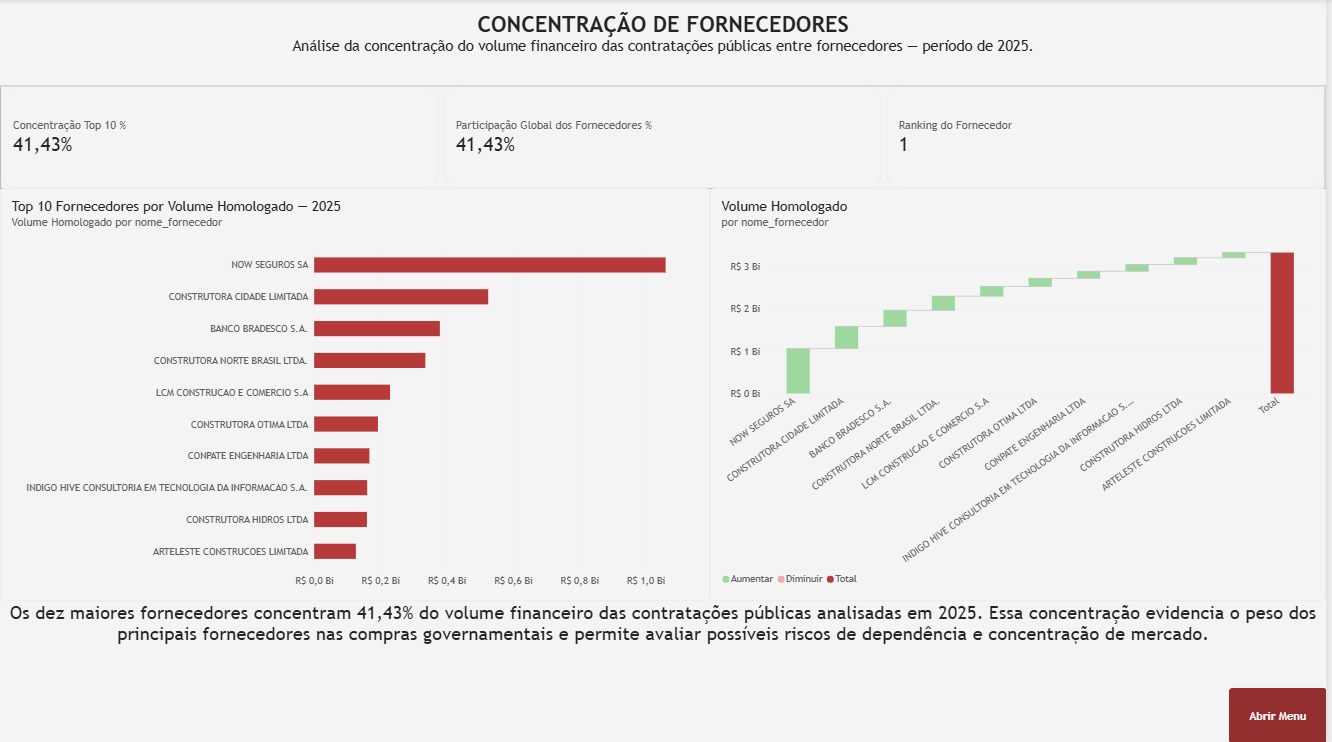

This screenshot's page, from the dashboard's own definition file:
{"tool":"powerbi","page":{"name":"P2 Fornecedores","canvas":[1920,1080],"ordinal":2},"visuals":[{"type":"cardVisual","fields":{"Data":["Medidas.Concentração Top 10 %","Medidas.Participação Global dos Fornecedores %","Medidas.Ranking do Fornecedor"]},"box":[0,124,1920,150],"z":0},{"type":"textbox","box":[0,18,1920,132],"z":1000},{"type":"clusteredBarChart","title":"Top 10 Fornecedores por Volume Homologado — 2025","fields":{"Category":["dim_fornecedor.nome_fornecedor"],"Y":["Medidas.Volume Homologado"]},"box":[0,274,1028,598],"z":2000},{"type":"textbox","box":[0,872,1920,106],"z":3000},{"type":"waterfallChart","fields":{"Category":["dim_fornecedor.nome_fornecedor"],"Y":["Medidas.Volume Homologado"]},"box":[1028,274,892,598],"z":4000},{"type":"actionButton","box":[1778,998,142,82],"z":6000},{"type":"actionButton","title":"Abrir Menu Btn","box":[1778,998,142,82],"z":8000}]}

Visuals, with their boxes in screenshot pixels (x1, y1, x2, y2), scaled from the page's 1920x1080 canvas onto the 1332x742 screenshot:
cardVisual - Medidas.Concentração Top 10 % x Medidas.Participação Global dos Fornecedores %: crop(0, 85, 1331, 188)
textbox: crop(0, 12, 1331, 103)
"Top 10 Fornecedores por Volume Homologado — 2025" clusteredBarChart: crop(0, 188, 713, 599)
textbox: crop(0, 599, 1331, 672)
waterfallChart - dim_fornecedor.nome_fornecedor x Medidas.Volume Homologado: crop(713, 188, 1331, 599)
actionButton: crop(1233, 686, 1331, 741)
"Abrir Menu Btn" actionButton: crop(1233, 686, 1331, 741)
